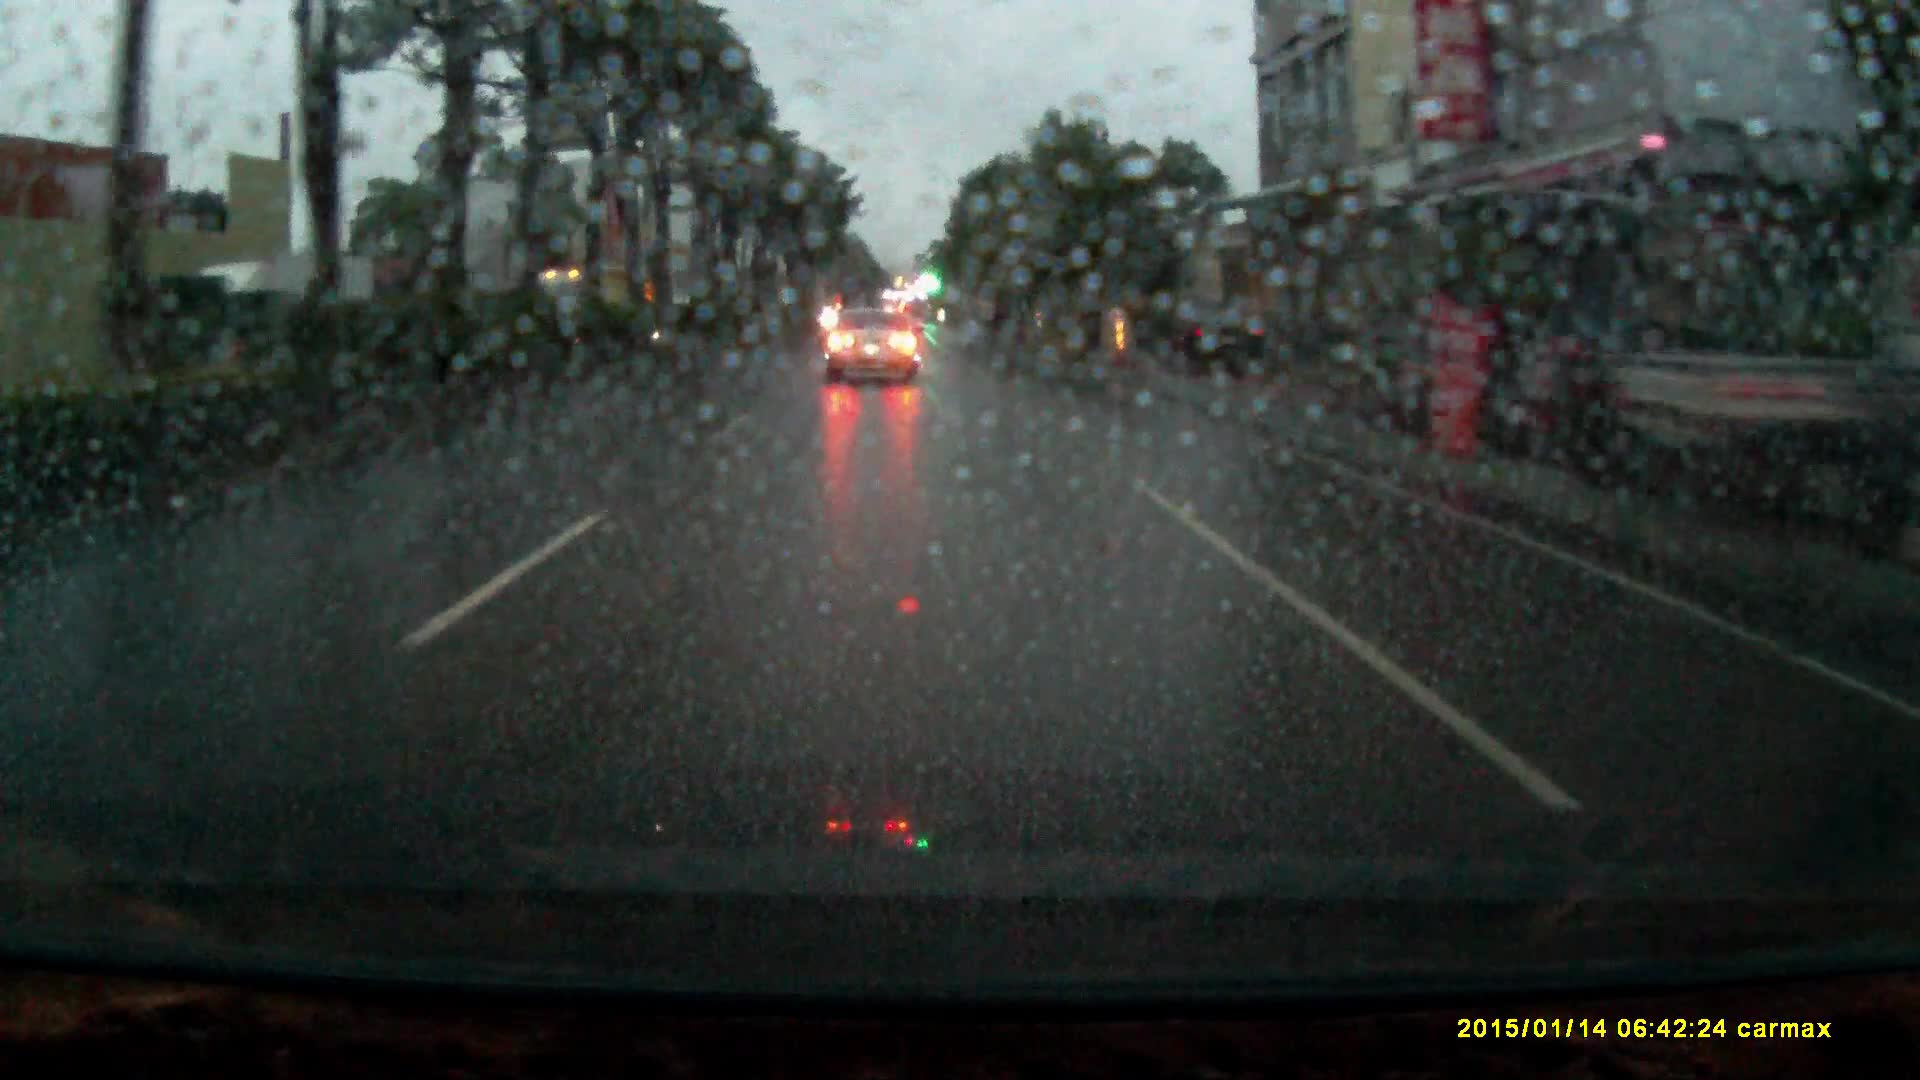vehicle: (178, 251, 378, 371), (824, 305, 924, 386), (1162, 305, 1267, 376), (526, 268, 636, 309)
